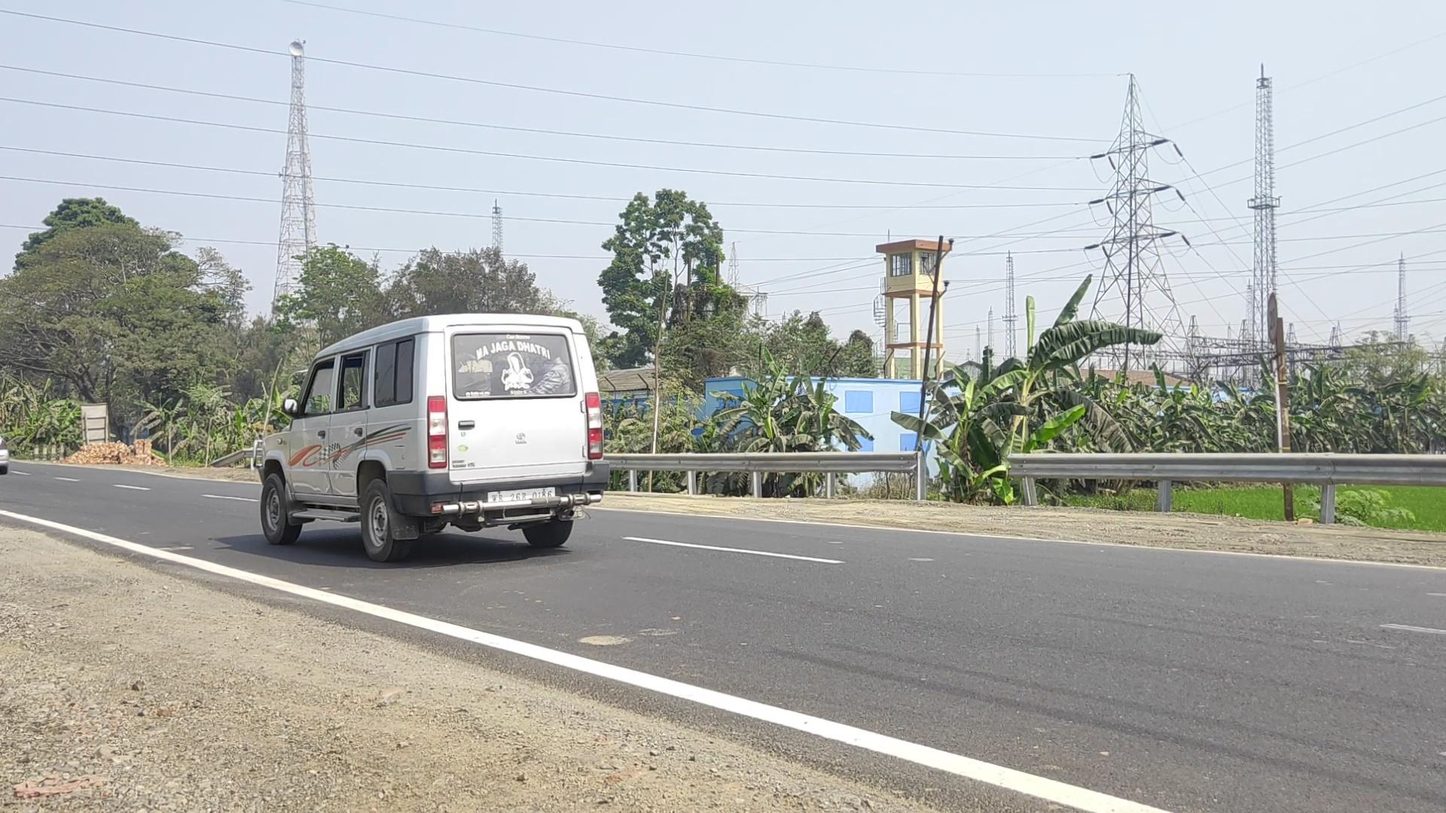car: (252, 312, 611, 564)
